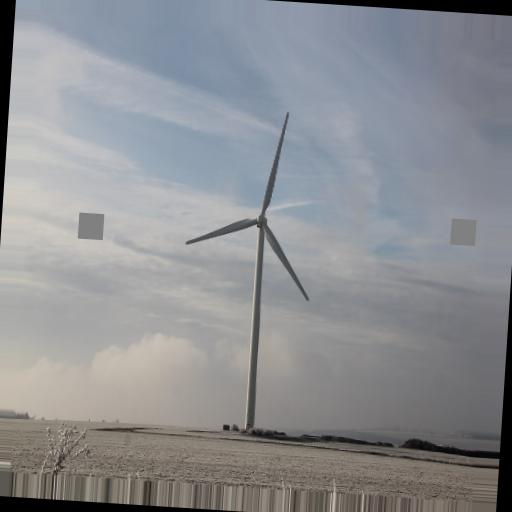wind turbine: (185, 111, 311, 439)
